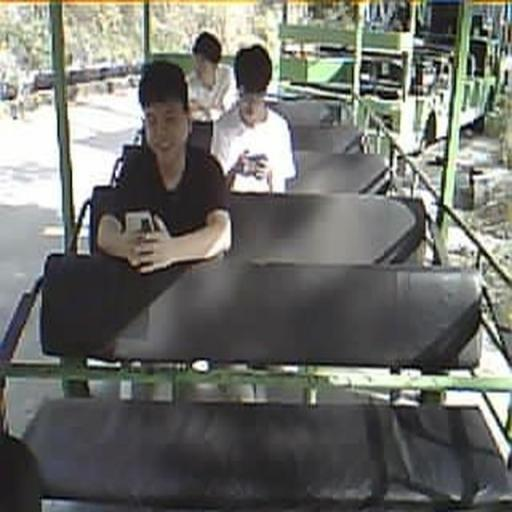persona: (91, 59, 233, 274), (210, 43, 298, 195), (184, 30, 239, 124)
